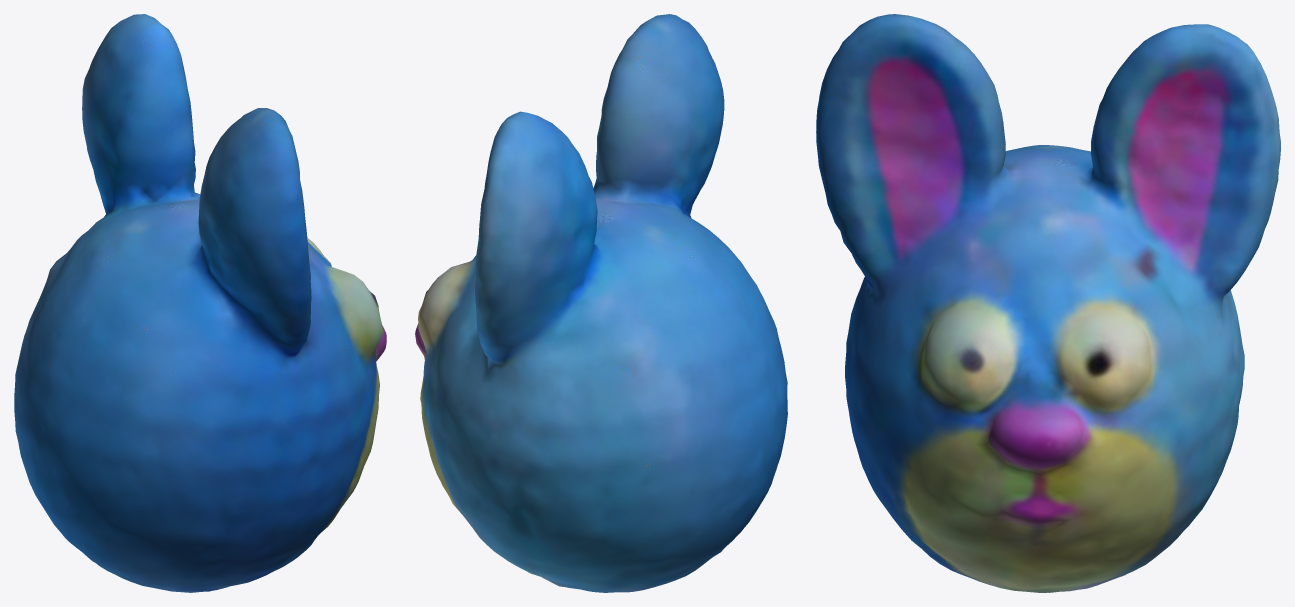
File: Create_rabbit_with_Oval_face_with_balanced_features_deep_ey_0614154805_preview.obj
The picture shows the model from 3 angles, left to right: view 1: azimuth 30°, elevation 25°; view 2: azimuth 150°, elevation 25°; view 3: azimuth 270°, elevation 25°; orthographic projection. The views are drawn at different scales.
Parts seen in each view (by area): view 1: Mesh1; view 2: Mesh1; view 3: Mesh1.
Part boxes in pixels (x1,y1,x2,y2): Mesh1: [14, 14, 386, 592]; Mesh1: [415, 14, 787, 592]; Mesh1: [816, 14, 1280, 592].
Bounding box in the file's own units: 0.84 × 1.2 × 0.8836.
Materials: 1 (1 with a texture image).
